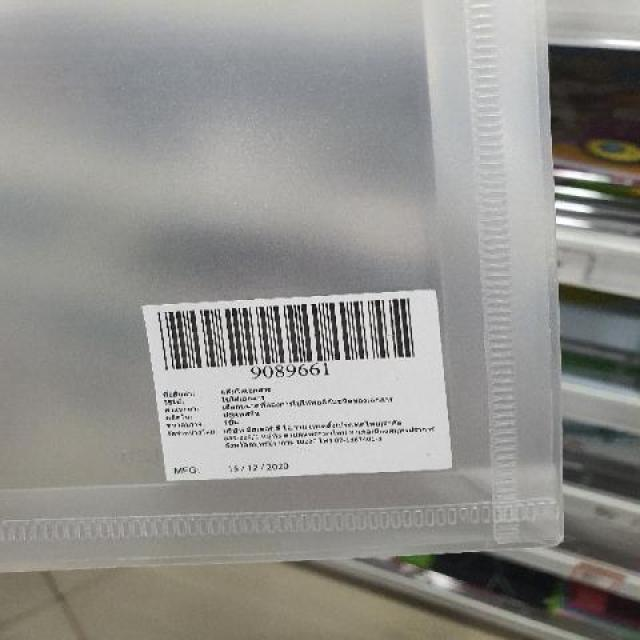Barcode: (149, 292, 428, 379)
